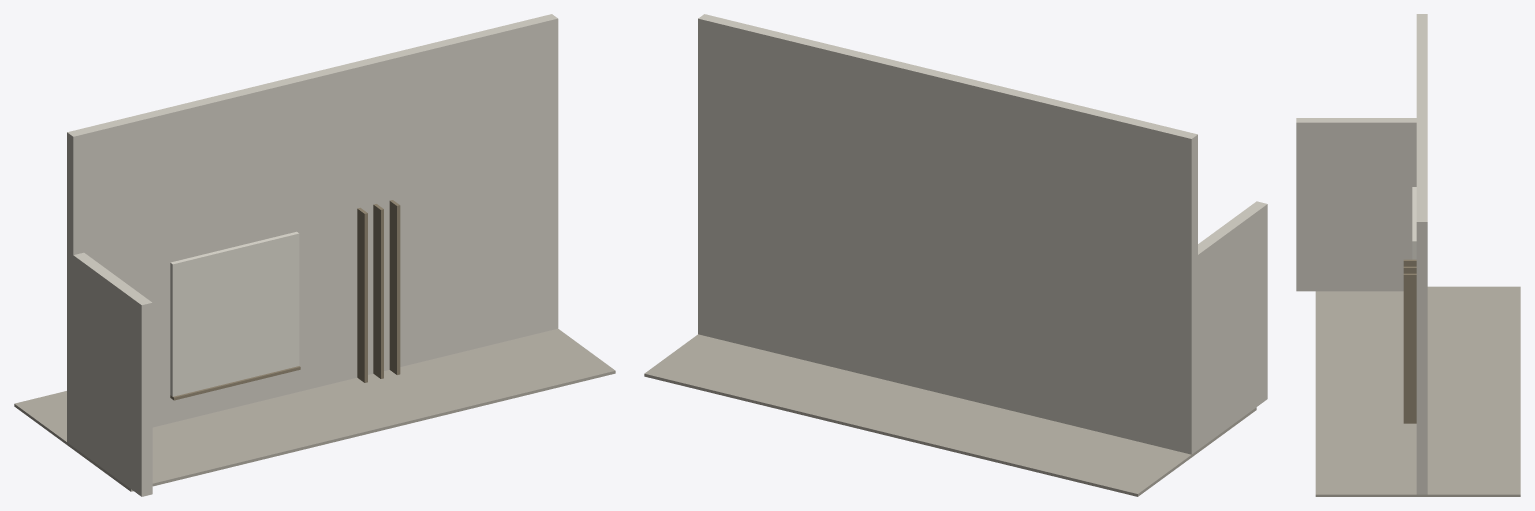
Rendered from neutral-room.glb.
3 renders of one model, left to right at view 1: azimuth 30°, elevation 25°; view 2: azimuth 150°, elevation 25°; view 3: azimuth 270°, elevation 25°, orthographic. The views are drawn at different scales.
Parts seen in each view (by area): view 1: back wall, floor behind contact stage, ivory inset, left wall return, bronze fin 3, bronze fin 1, bronze fin 2; view 2: back wall, floor behind contact stage, left wall return; view 3: floor behind contact stage, left wall return, back wall, bronze fin 3, ivory inset.
Boxes of the visible parts, x1,y1,x2,y2 form: back wall: (67, 14, 558, 444); floor behind contact stage: (14, 328, 615, 491); ivory inset: (170, 231, 299, 396); left wall return: (70, 252, 152, 496); bronze fin 3: (389, 200, 400, 374); bronze fin 1: (357, 207, 367, 382); bronze fin 2: (373, 204, 383, 378); back wall: (698, 14, 1197, 454); floor behind contact stage: (644, 334, 1256, 496); left wall return: (1198, 201, 1267, 449); floor behind contact stage: (1315, 286, 1520, 496); left wall return: (1296, 118, 1416, 291); back wall: (1416, 14, 1427, 494); bronze fin 3: (1403, 273, 1416, 423); ivory inset: (1412, 187, 1416, 259).
Bounding box in the file's own units: 1.8 × 1.11 × 0.82.
